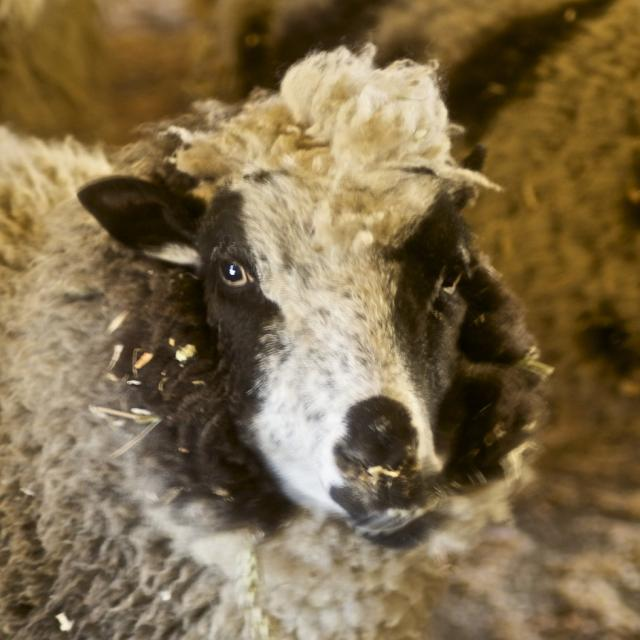Sheep: (20, 12, 570, 621)
